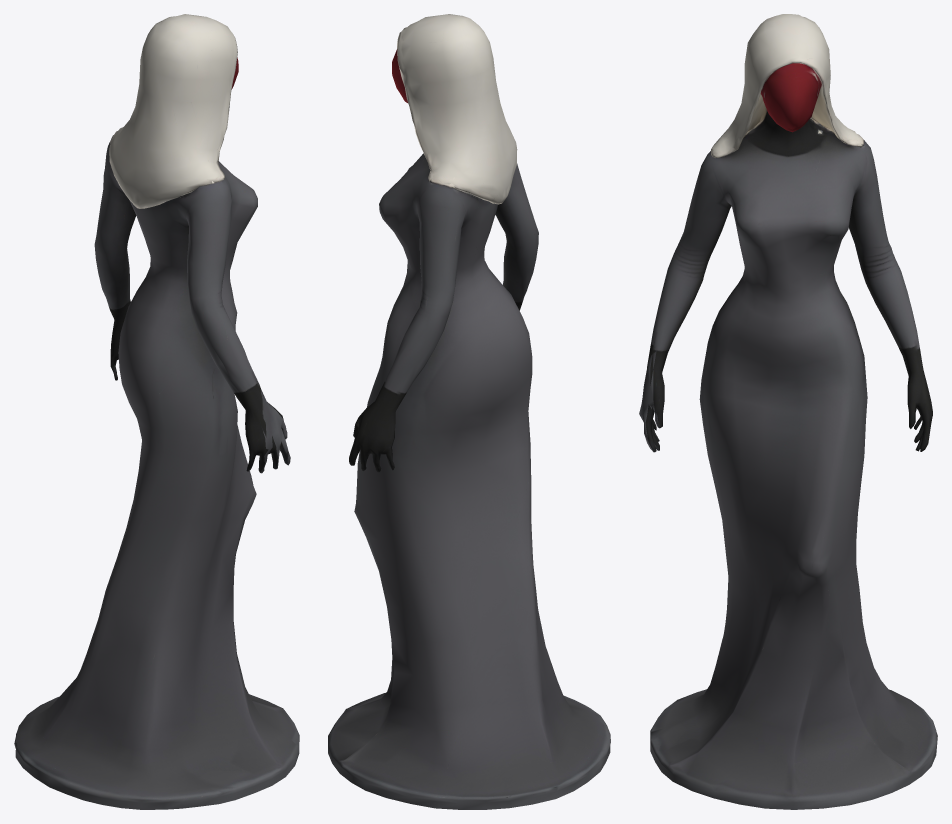
The model's file is min9tb.glb.
The picture shows the model from 3 angles, left to right: view 1: azimuth 30°, elevation 25°; view 2: azimuth 150°, elevation 25°; view 3: azimuth 270°, elevation 25°; orthographic projection. The views are drawn at different scales.
Visible parts, largest first — view 1: Model; view 2: Model; view 3: Model.
Boxes of the visible parts, x1,y1,x2,y2 form: Model: [14, 14, 299, 809]; Model: [328, 14, 610, 809]; Model: [639, 14, 937, 809].
Bounding box in the file's own units: 0.3535 × 0.998 × 0.3652.
1 material, 1 textured.
